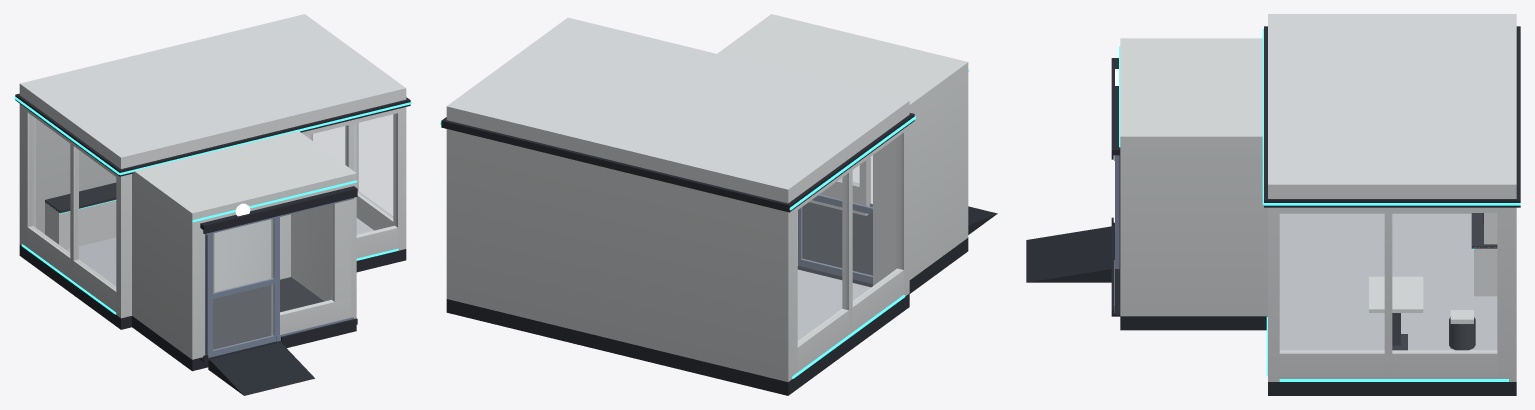
File: breakroom_v1c_dc34e0e7.glb
3 views of the same model, side by side, from view 1: azimuth 30°, elevation 25°; view 2: azimuth 150°, elevation 25°; view 3: azimuth 270°, elevation 25° (orthographic). The views are drawn at different scales.
Parts seen in each view (by area): view 1: Breakroom_Shell, Breakroom_Glass, Breakroom_Airlock_Outer, Breakroom_Airlock_Outer_Glass, Breakroom_OuterDoor_Track; view 2: Breakroom_Shell, Breakroom_Glass, Breakroom_Airlock_Inner; view 3: Breakroom_Shell, Breakroom_Glass, Breakroom_OuterDoor_Track, Breakroom_Airlock_Outer.
Boxes of the visible parts, x1,y1,x2,y2 form: Breakroom_Shell: [14, 14, 411, 395]; Breakroom_Glass: [29, 114, 395, 313]; Breakroom_Airlock_Outer: [205, 217, 279, 357]; Breakroom_Airlock_Outer_Glass: [213, 219, 273, 349]; Breakroom_OuterDoor_Track: [200, 186, 357, 361]; Breakroom_Shell: [440, 14, 997, 395]; Breakroom_Glass: [798, 135, 901, 344]; Breakroom_Airlock_Inner: [798, 156, 872, 283]; Breakroom_Shell: [1026, 14, 1520, 395]; Breakroom_Glass: [1280, 213, 1496, 352]; Breakroom_OuterDoor_Track: [1111, 58, 1120, 316]; Breakroom_Airlock_Outer: [1115, 155, 1119, 268].
Size of the model in its own units: 5.34 by 3 by 6.36.
